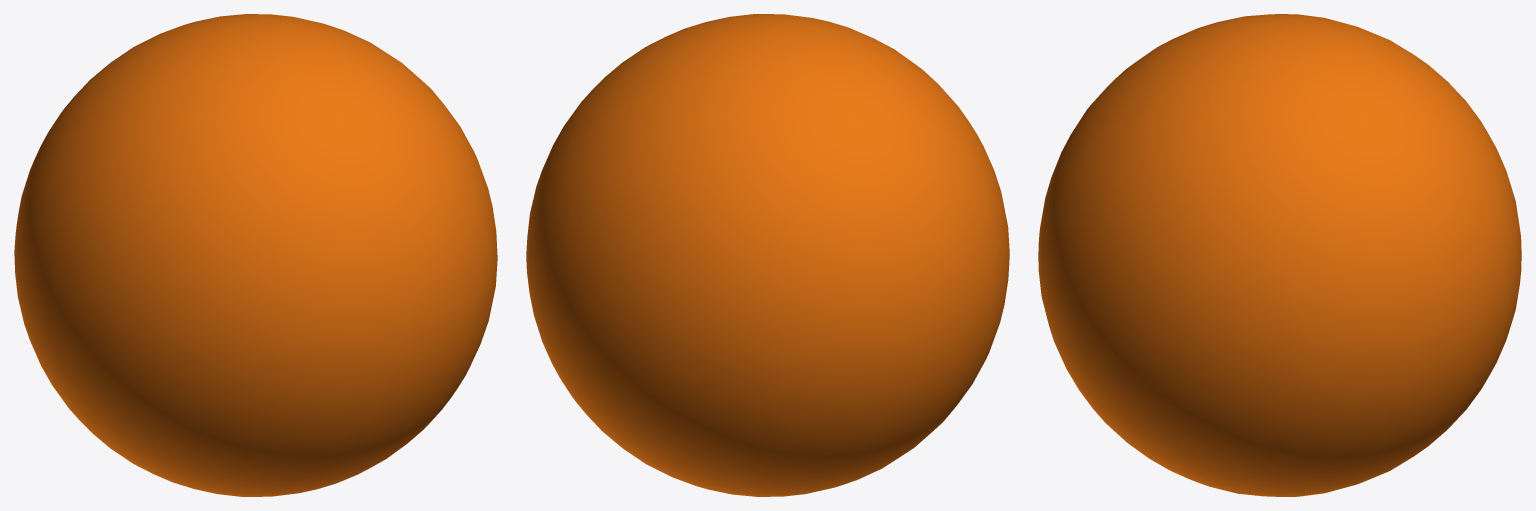
Rendered from ball.glb.
3 views of the same model, side by side, from view 1: azimuth 30°, elevation 25°; view 2: azimuth 150°, elevation 25°; view 3: azimuth 270°, elevation 25° (orthographic).
Visible parts, largest first — view 1: Cube; view 2: Cube; view 3: Cube.
Part boxes in pixels (x1,y1,x2,y2): Cube: [14, 14, 497, 496]; Cube: [526, 14, 1009, 496]; Cube: [1038, 14, 1521, 496].
Bounding box in the file's own units: 1.43 × 1.43 × 1.43.
